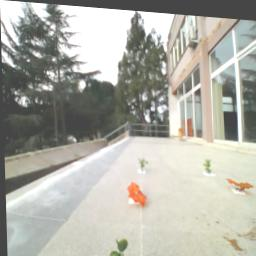herb: (105, 234, 130, 256), (138, 156, 150, 169), (203, 156, 213, 171)
wild: (126, 180, 147, 205), (225, 174, 255, 189)
